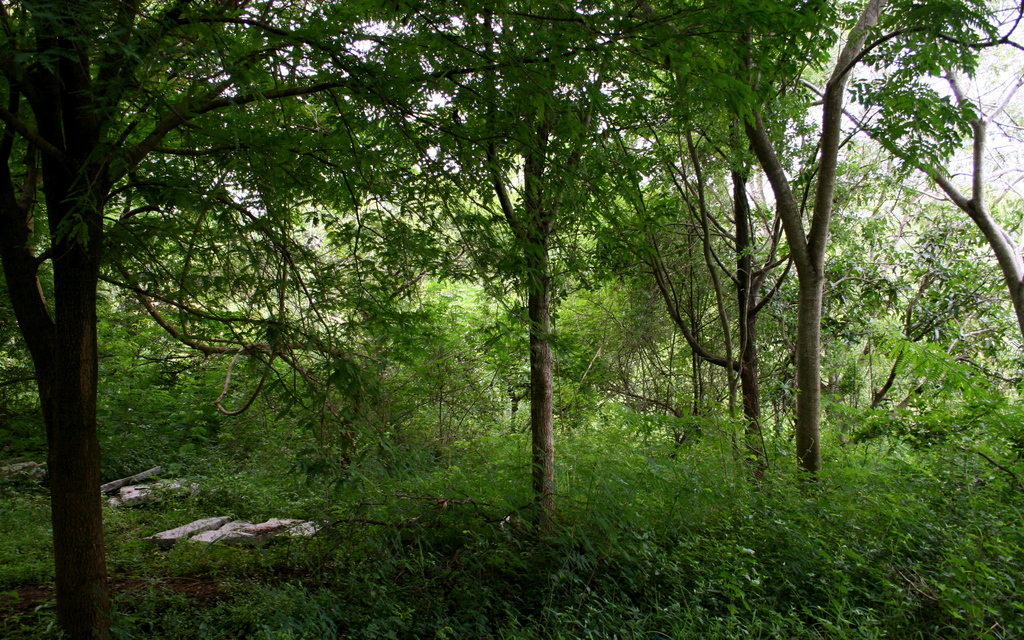Tree: (0, 0, 1023, 639), (770, 21, 1017, 552)
